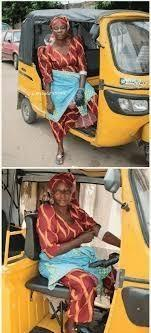keke: (15, 0, 151, 164)
